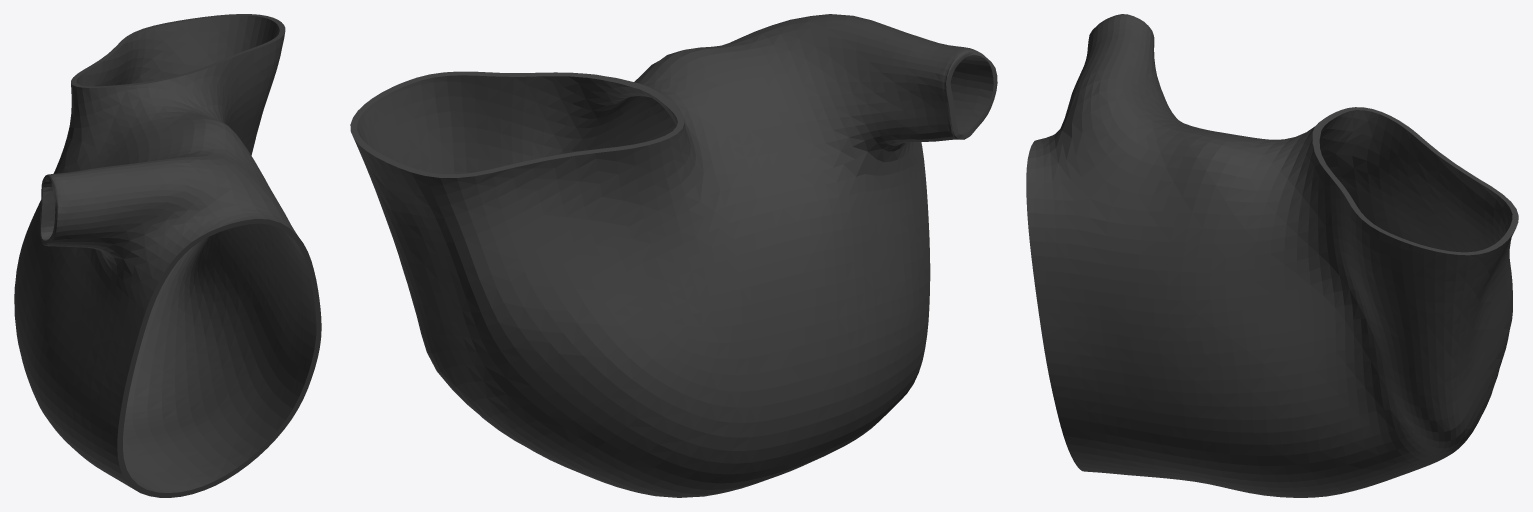
The model's file is stom_cardia_LP.glb.
The picture shows the model from 3 angles, left to right: view 1: azimuth 30°, elevation 25°; view 2: azimuth 150°, elevation 25°; view 3: azimuth 270°, elevation 25°; orthographic projection. The views are drawn at different scales.
Visible parts, largest first — view 1: stom_cardia_LP; view 2: stom_cardia_LP; view 3: stom_cardia_LP.
Part boxes in pixels (box(x1,y1,x2,y2)): stom_cardia_LP: box(14, 14, 321, 497); stom_cardia_LP: box(350, 14, 997, 497); stom_cardia_LP: box(1026, 14, 1518, 497).
Bounding box in the file's own units: 1.73 × 1.5 × 1.74.
Materials: 1 (1 with a texture image).
